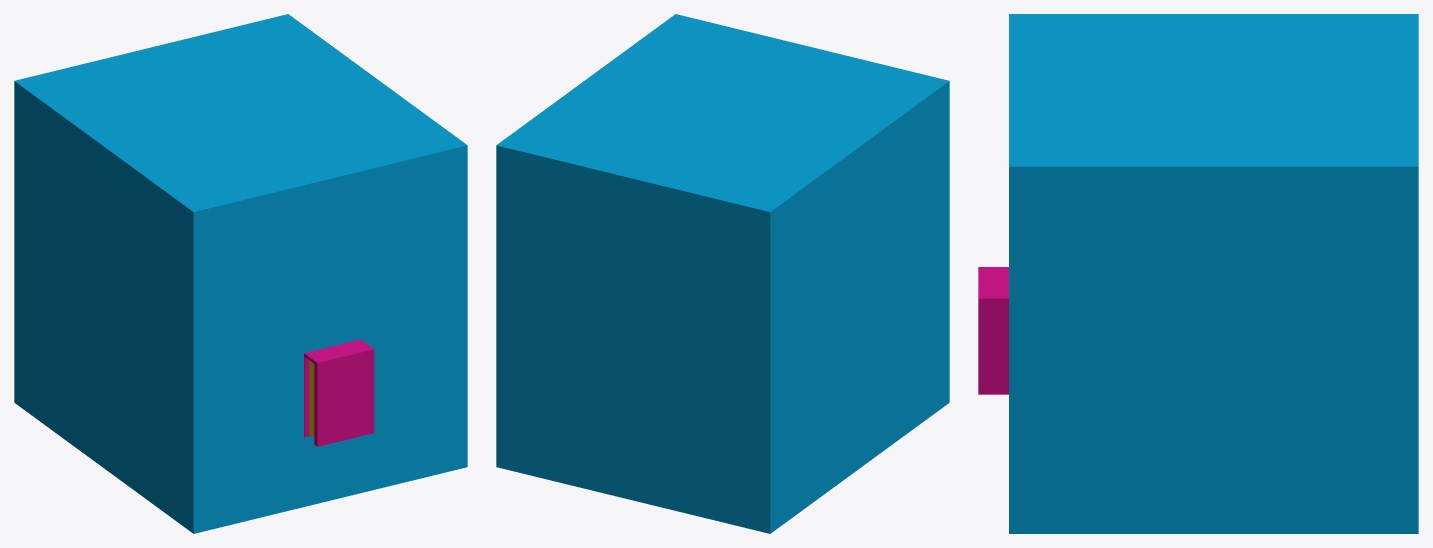
The model's file is tinker.obj.
3 renders of one model, left to right at view 1: azimuth 30°, elevation 25°; view 2: azimuth 150°, elevation 25°; view 3: azimuth 270°, elevation 25°, orthographic. The views are drawn at different scales.
Visible parts, largest first — view 1: group_0_40919, group_0_14093196; view 2: group_0_40919; view 3: group_0_40919, group_0_14093196.
Boxes of the visible parts, x1,y1,x2,y2 form: group_0_40919: (14,14,467,533); group_0_14093196: (304,339,374,446); group_0_40919: (496,14,949,533); group_0_40919: (1009,14,1418,533); group_0_14093196: (978,267,1008,394).
Bounding box in the file's own units: 82 × 93 × 100.
